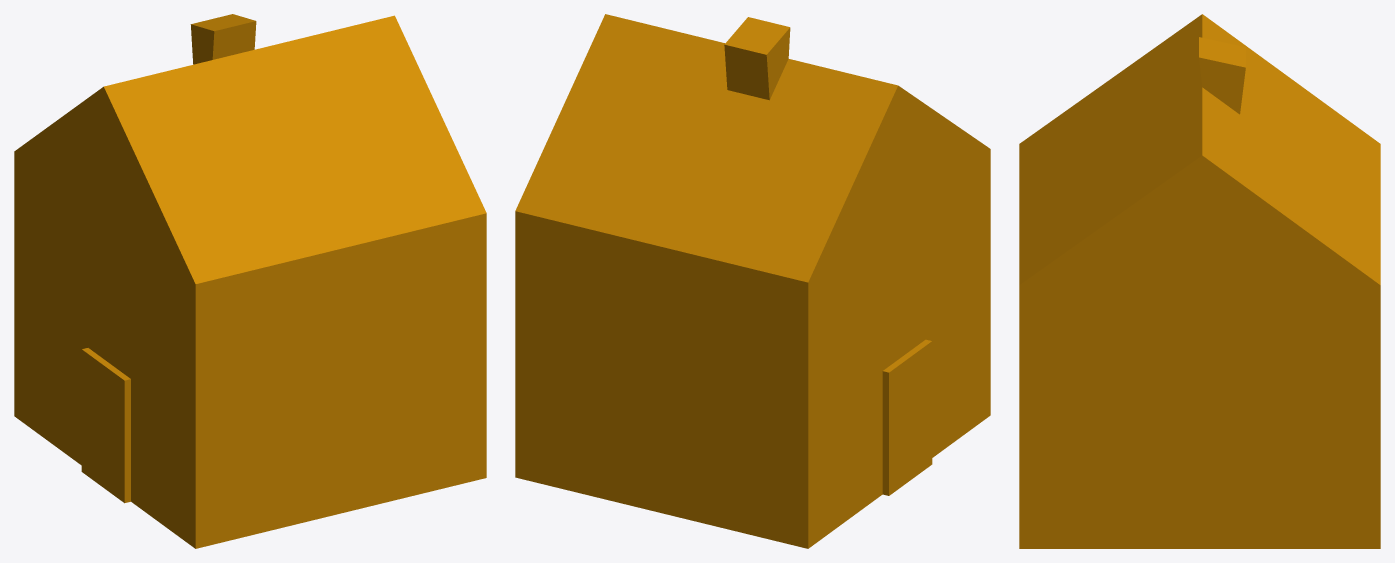
The model's file is House.fbx.
3 renders of one model, left to right at view 1: azimuth 30°, elevation 25°; view 2: azimuth 150°, elevation 25°; view 3: azimuth 270°, elevation 25°, orthographic.
Parts seen in each view (by area): view 1: Cube; view 2: Cube; view 3: Cube.
Boxes of the visible parts, x1,y1,x2,y2 form: Cube: [14, 14, 486, 548]; Cube: [515, 14, 990, 548]; Cube: [1019, 14, 1380, 548].
Size of the model in its own units: 506 by 691 by 534.
